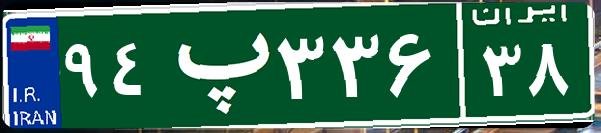3: (273, 28, 330, 110), (330, 28, 385, 110), (475, 38, 525, 113)
4: (110, 28, 158, 105)
6: (385, 28, 445, 110)
8: (525, 38, 570, 115)
9: (57, 26, 110, 107)
پ: (158, 15, 273, 115)
